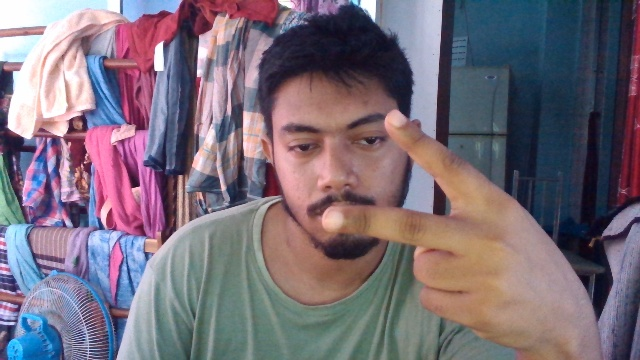thanks: (312, 104, 574, 355)
